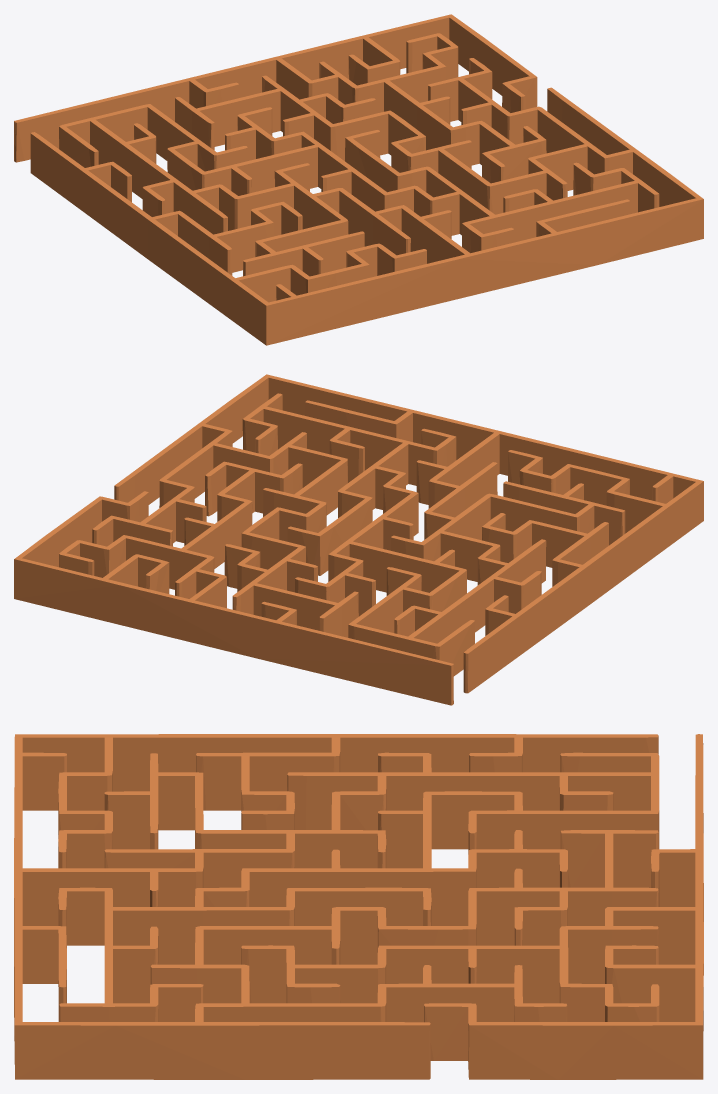
File: labyrinth.fbx
3 views of the same model, one above another, from view 1: azimuth 30°, elevation 25°; view 2: azimuth 150°, elevation 25°; view 3: azimuth 270°, elevation 25° (orthographic). The views are drawn at different scales.
Parts seen in each view (by area): view 1: lbr; view 2: lbr; view 3: lbr.
Part boxes in pixels (left/top/right/bottom): lbr: left=14, top=14, right=703, bottom=345; lbr: left=14, top=374, right=703, bottom=705; lbr: left=14, top=734, right=703, bottom=1079.
Size of the model in its own units: 346 by 30 by 346.
